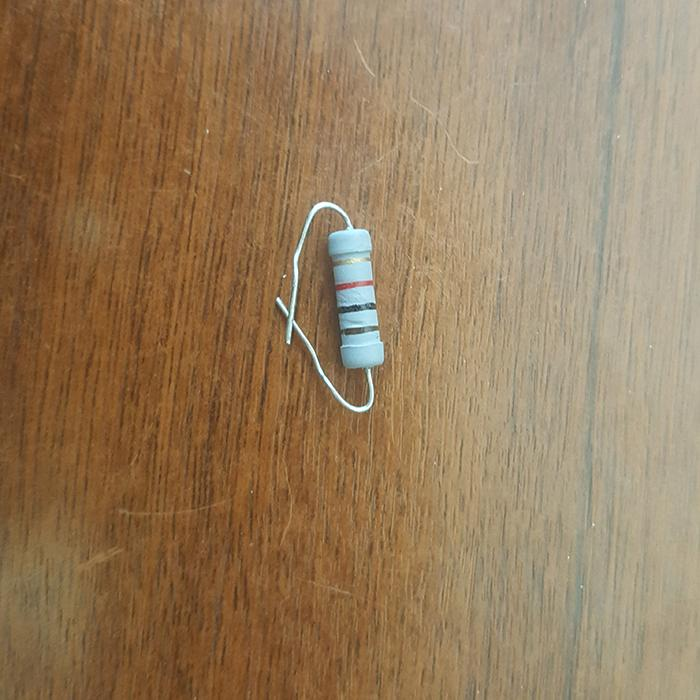resistor: (325, 226, 387, 370)
